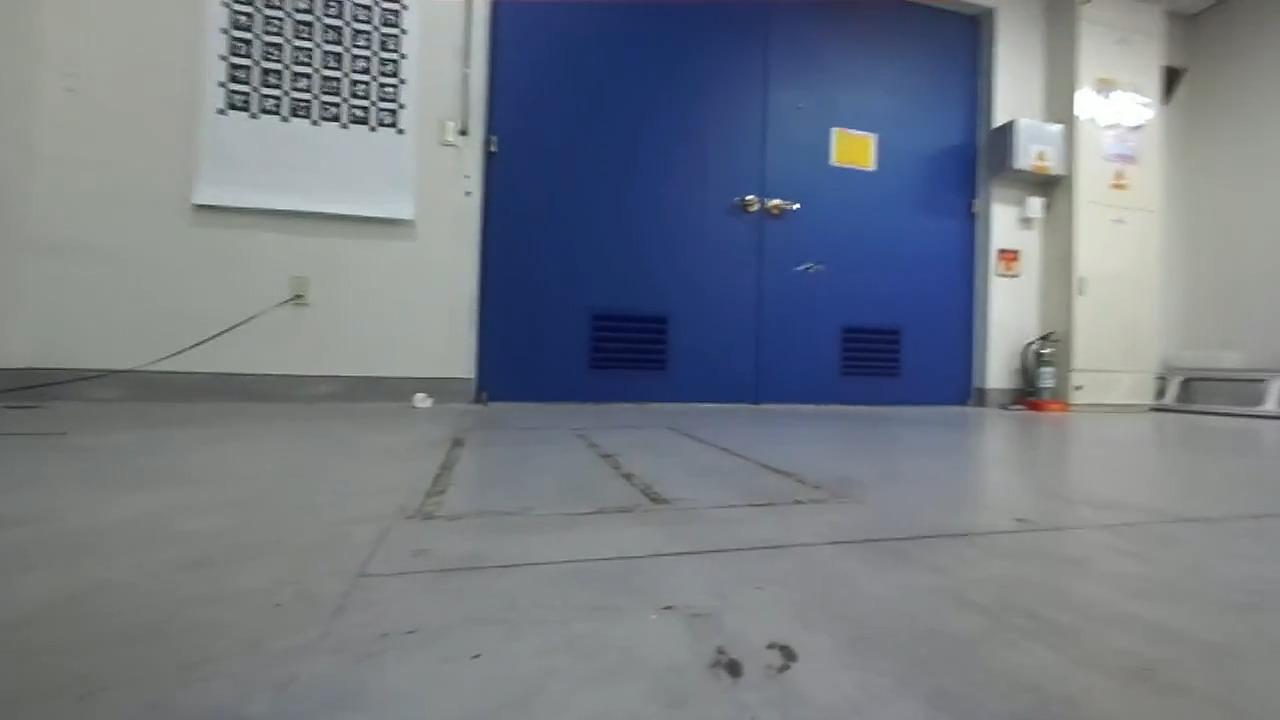crazyflie: (780, 253, 837, 279)
